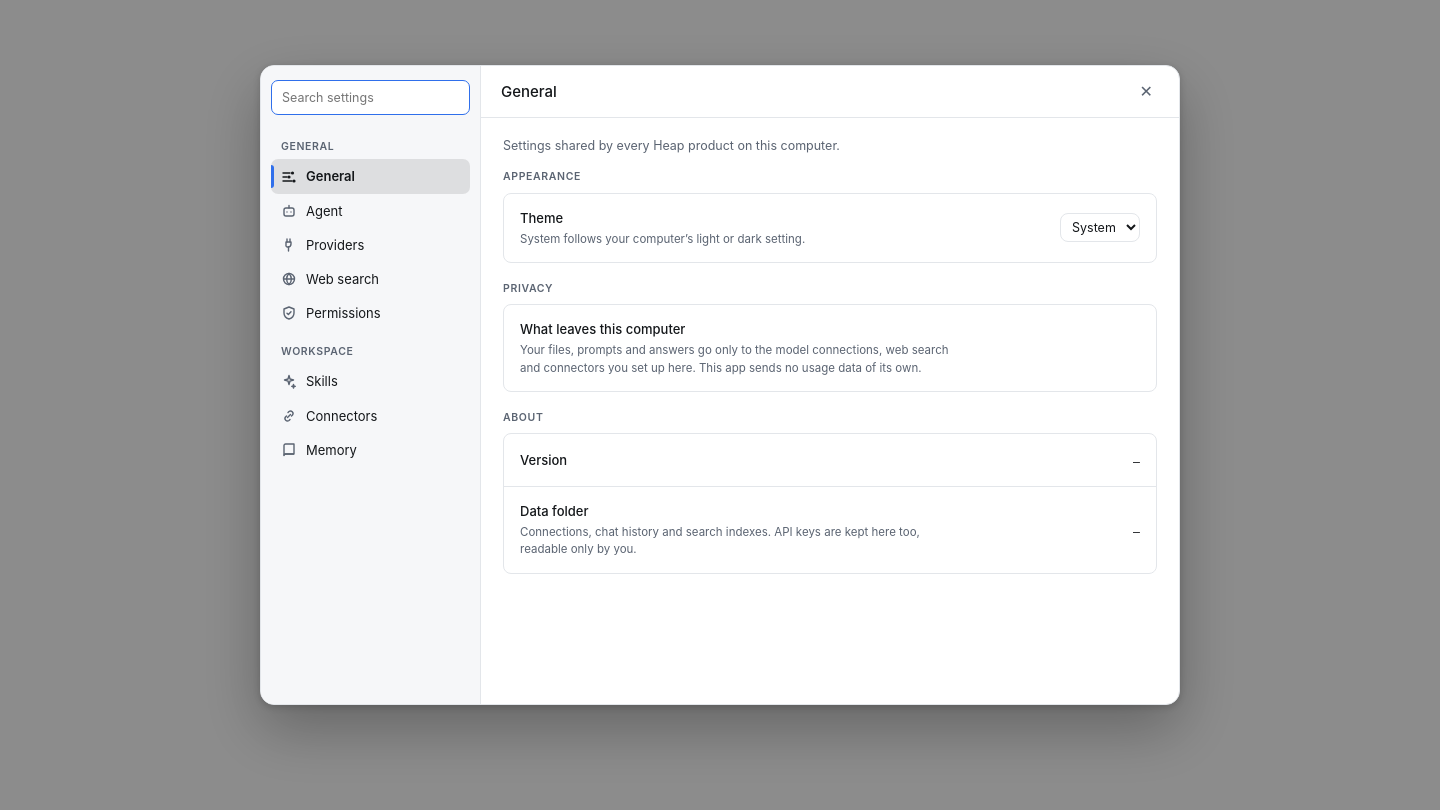
the settings dialog › the provider list › fills in the endpoint when a provider is picked, instead of leaving it blank
Click the button "Providers".
click(370, 245)  # box [271, 228, 470, 262]
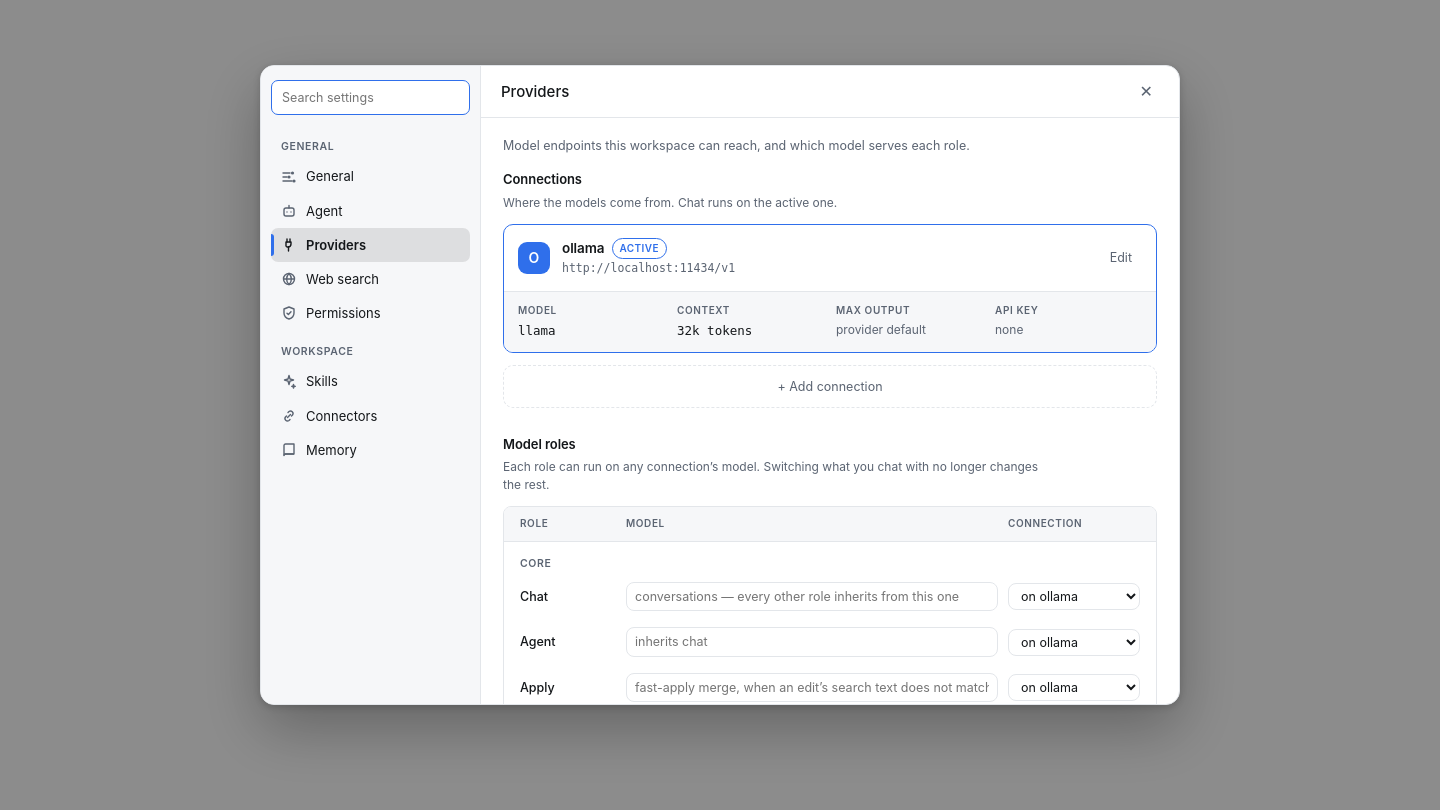
Click the button "+ Add connection".
click(830, 386)  # box [503, 365, 1157, 408]
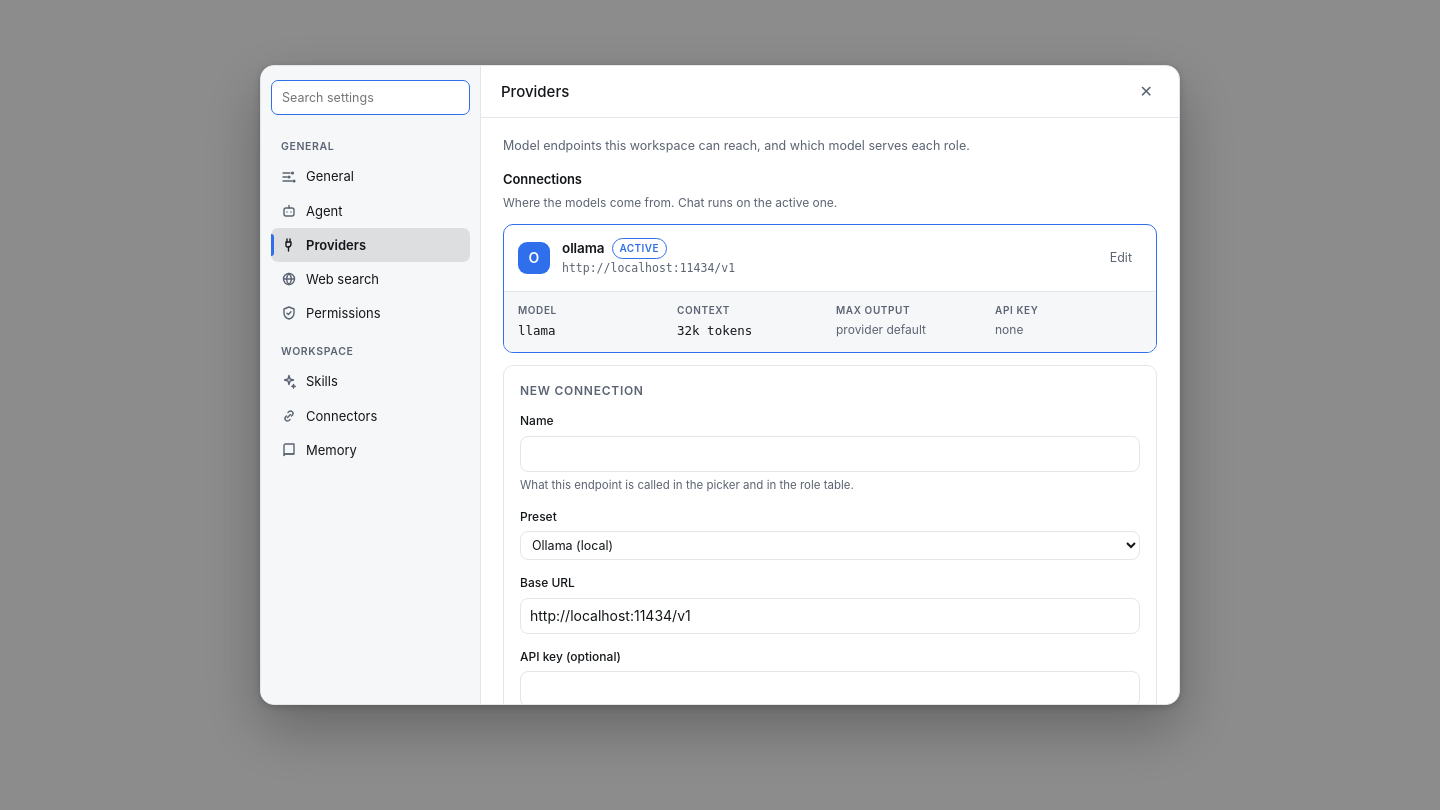
Expected: the field with placeholder "http://localhost:11434/v1" holds "http://localhost:11434/v1", [520, 598, 1140, 634]
Select "Ollama Cloud" in the dropdown at point(830, 546), box [520, 532, 1140, 560]
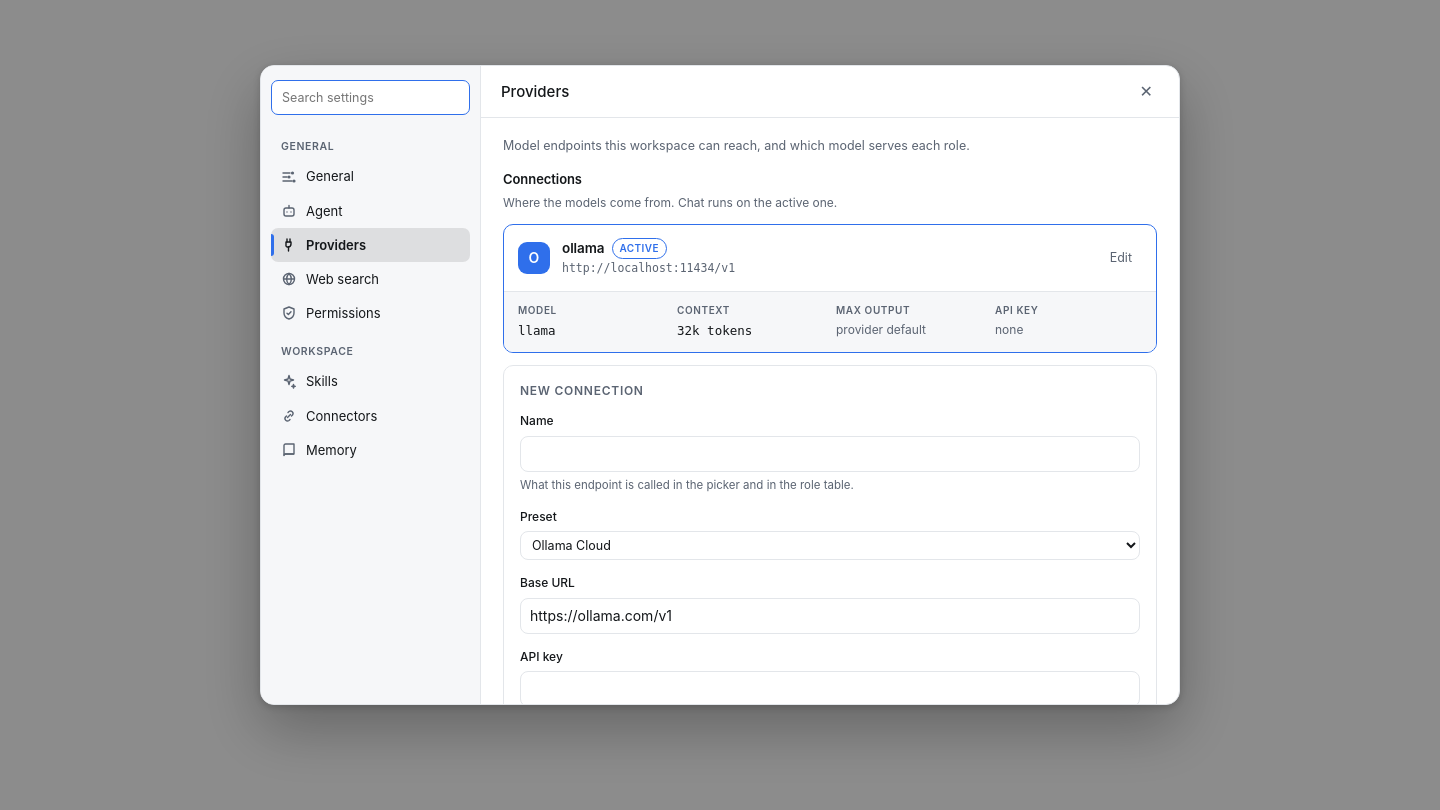
Expected: the field with placeholder "http://localhost:11434/v1" holds "https://ollama.com/v1", [520, 598, 1140, 634]
